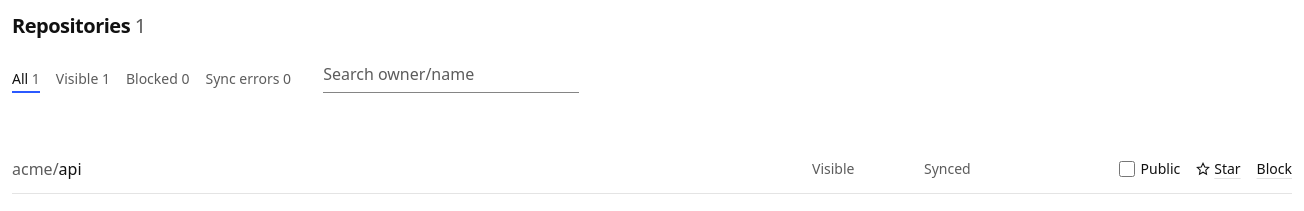
it: RepoAccessManager public access › shows a failure and keeps the switch off
Step 1. Click the switch named "Public access for acme/api" → (1126, 169), box [1118,161,1134,177]
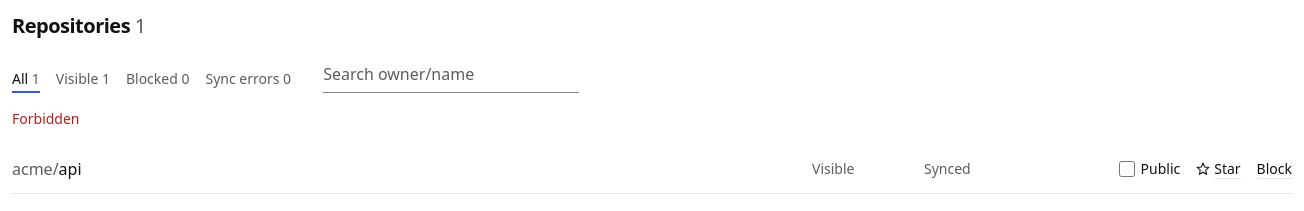
expect the text "Forbidden" is shown: met, box [12,109,80,128]
